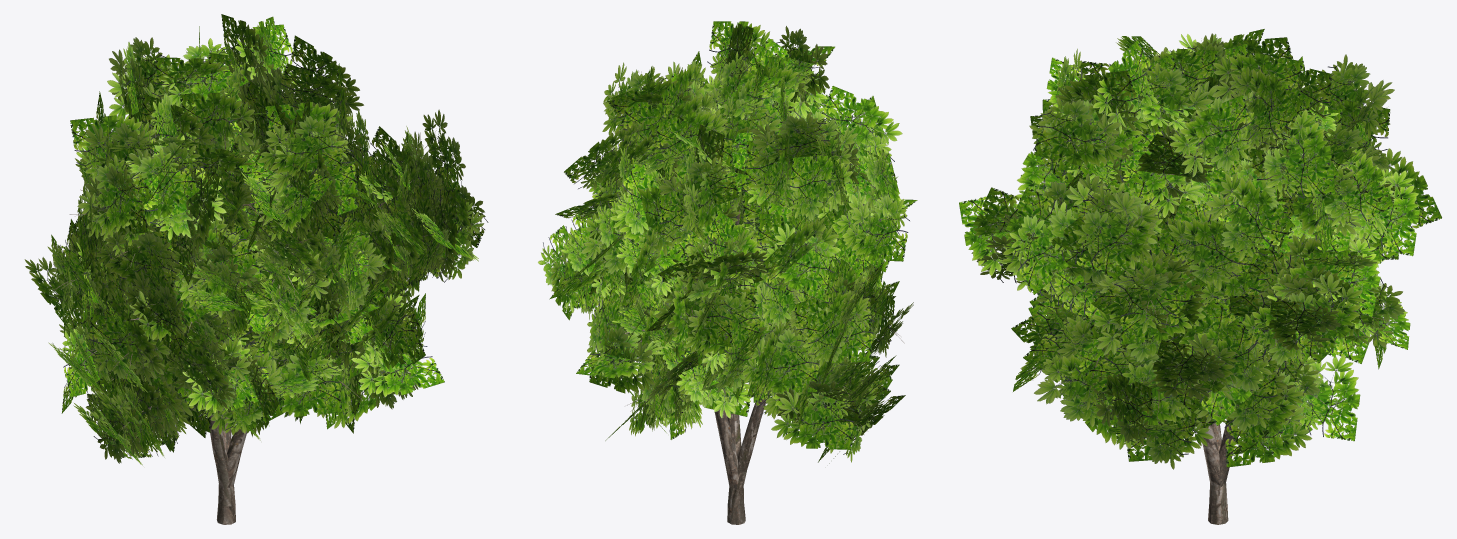
File: Jeruk 1.fbx
3 renders of one model, left to right at view 1: azimuth 30°, elevation 25°; view 2: azimuth 150°, elevation 25°; view 3: azimuth 270°, elevation 25°, orthographic. The views are drawn at different scales.
Visible parts, largest first — view 1: daun.003; view 2: daun.003; view 3: daun.003.
Boxes of the visible parts, x1=… form: daun.003: x1=24, y1=14, x2=488, y2=524; daun.003: x1=538, y1=21, x2=917, y2=524; daun.003: x1=959, y1=29, x2=1441, y2=524.
Bounding box in the file's own units: 1295 × 1736 × 1542.
